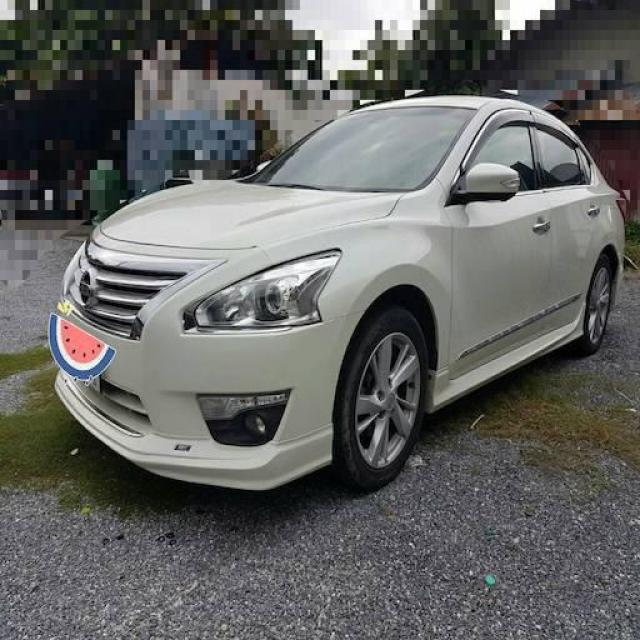back_left_door: (532, 108, 604, 334)
front_bumper: (52, 219, 365, 491)
front_glass: (240, 105, 478, 191)
front_left_door: (446, 108, 554, 379)
front_left_light: (185, 248, 344, 333)
hood: (102, 182, 409, 248)
left_mirror: (454, 160, 519, 205)
wheel: (338, 307, 428, 490), (584, 254, 612, 350)
